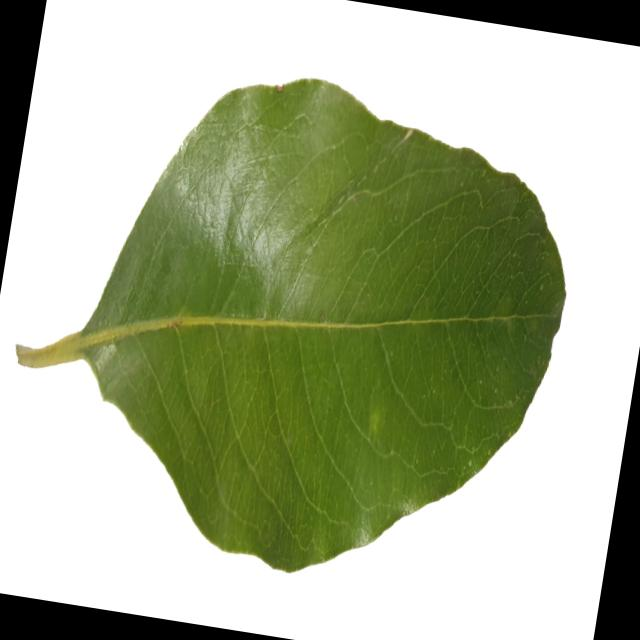Medicinal-Sandalwood: (0, 36, 591, 608)
